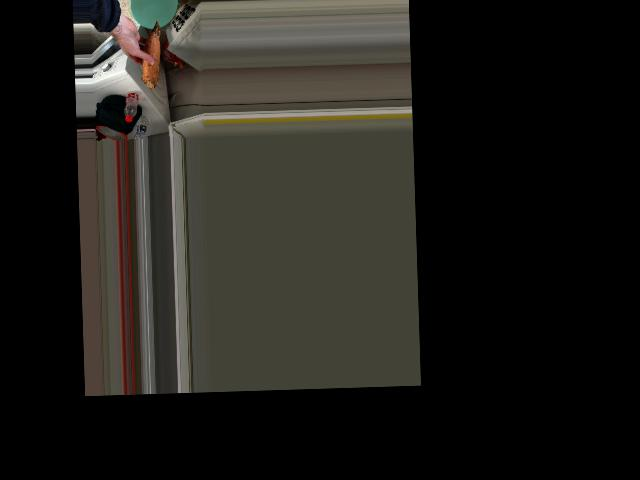sweet_potato: (143, 20, 159, 92)
